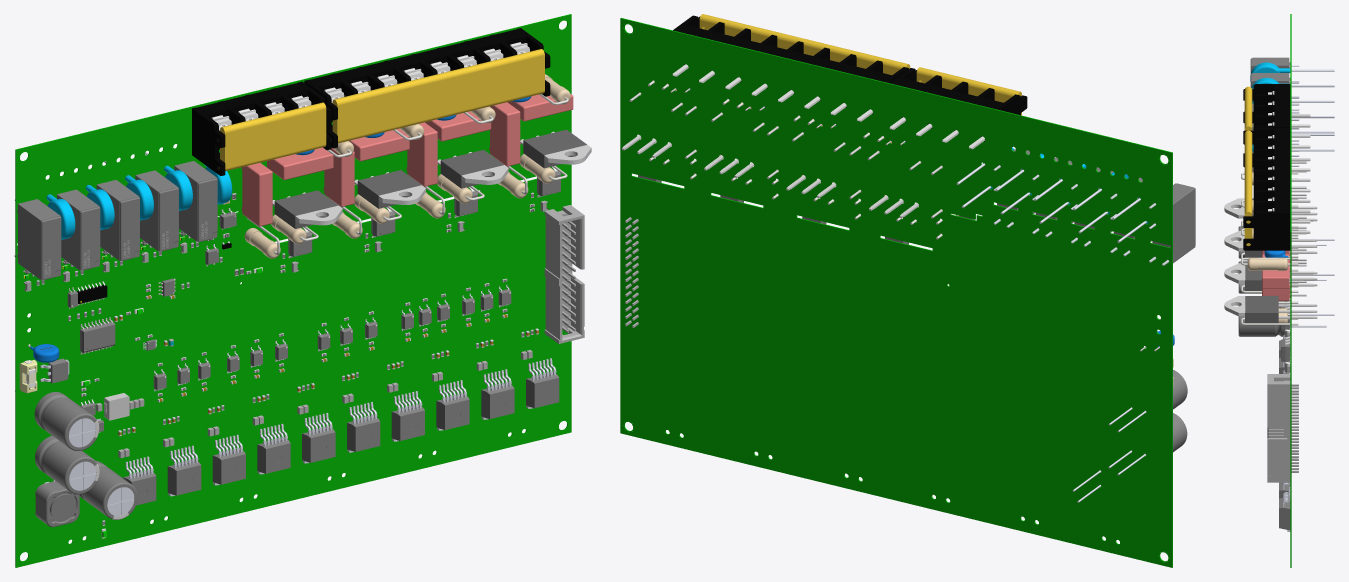
Rendered from load.glb.
3 renders of one model, left to right at view 1: azimuth 30°, elevation 25°; view 2: azimuth 150°, elevation 25°; view 3: azimuth 270°, elevation 25°, orthographic. The views are drawn at different scales.
Parts seen in each view (by area): view 1: Open CASCADE STEP translator 7.5 3.1.1.step-1, 10015447040.step-1 (×10), Relay_G5NB.step-1 (×5), FILM_RED_P1500L1800W500H1100PD80.step-1 (×8), Cover-8.step-1, User Library-TOP3.step-1 (×4), 10015450112.step-1 (×2), Cover.step-1, TSS-115-01-D_header.step-1, BodyRight.step-1, 8257849456.step-1, 10015450496.step-1 (+6 smaller); view 2: Open CASCADE STEP translator 7.5 3.1.1.step-1, Cover-8.step-1, Relay_G5NB.step-1, Cover.step-1, T-1S6-15-01-D__.step-1, BodyRight.step-1; view 3: User Library-TOP3.step-1 (×4), TSS-115-01-D_header.step-1, BodyCenter-7.step-1 (×6), BodyLeft-2.step-1, 10D561K.step-1 (×5), Open CASCADE STEP translator 7.5 3.1.1.step-1, FILM_RED_P1500L1800W500H1100PD80.step-1 (×2), R_Axial_DIN0516_L15.5mm_D5.0mm_P5.08mm_Vertical.step-1 (×2), Cover-8.step-1, Relay_G5NB.step-1 (×2), BodyCenter.step-1 (×2), T-1S6-15-01-D__.step-1 (+9 smaller).
Part boxes in pixels (x1,y1,x2,y2): Open CASCADE STEP translator 7.5 3.1.1.step-1: [15, 14, 571, 567]; 10015447040.step-1 (×10): [123, 358, 559, 505]; Relay_G5NB.step-1 (×5): [14, 161, 217, 280]; FILM_RED_P1500L1800W500H1100PD80.step-1 (×8): [241, 94, 573, 226]; Cover-8.step-1: [331, 49, 544, 143]; User Library-TOP3.step-1 (×4): [272, 129, 591, 228]; 10015450112.step-1 (×2): [15, 391, 99, 494]; Cover.step-1: [219, 102, 326, 170]; TSS-115-01-D_header.step-1: [544, 205, 584, 343]; BodyRight.step-1: [192, 101, 243, 175]; 8257849456.step-1: [79, 461, 137, 519]; 10015450496.step-1: [35, 480, 79, 527]; Open CASCADE STEP translator 7.5 3.1.1.step-1: [620, 18, 1172, 567]; Cover-8.step-1: [699, 14, 910, 75]; Relay_G5NB.step-1: [1149, 183, 1195, 265]; Cover.step-1: [916, 67, 1021, 115]; T-1S6-15-01-D__.step-1: [625, 217, 638, 327]; BodyRight.step-1: [971, 88, 1027, 141]; User Library-TOP3.step-1 (×4): [1224, 198, 1317, 323]; TSS-115-01-D_header.step-1: [1267, 374, 1290, 482]; BodyCenter-7.step-1 (×6): [1253, 139, 1290, 202]; BodyLeft-2.step-1: [1243, 201, 1290, 250]; 10D561K.step-1 (×5): [1250, 62, 1334, 152]; Open CASCADE STEP translator 7.5 3.1.1.step-1: [1290, 14, 1291, 567]; FILM_RED_P1500L1800W500H1100PD80.step-1 (×2): [1262, 254, 1306, 300]; R_Axial_DIN0516_L15.5mm_D5.0mm_P5.08mm_Vertical.step-1 (×2): [1241, 257, 1298, 325]; Cover-8.step-1: [1244, 130, 1252, 245]; Relay_G5NB.step-1 (×2): [1250, 57, 1299, 120]; BodyCenter.step-1 (×2): [1253, 95, 1290, 117]; T-1S6-15-01-D__.step-1: [1268, 384, 1298, 472].
Bounding box in the file's own units: 0.199 × 0.143 × 0.0425.
